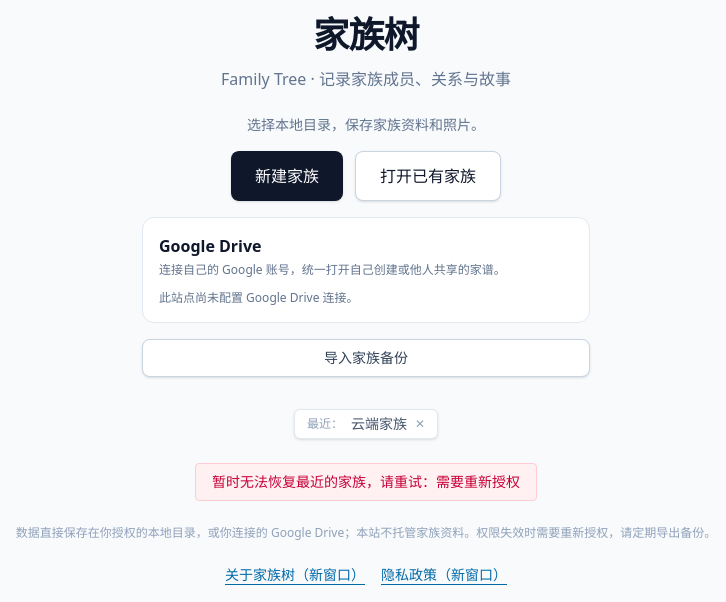
it: Welcome storage connections › lets users retry and forget a failed connection from another registered provider
Click the button "云端家族".
click(379, 424)  # box [351,414,407,434]
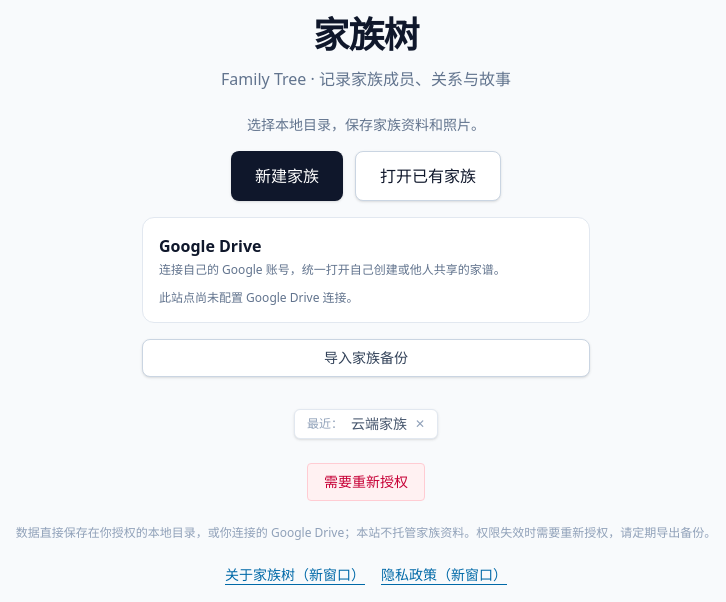
Click the button titled "清除记录".
click(420, 424)  # box [415,416,425,432]
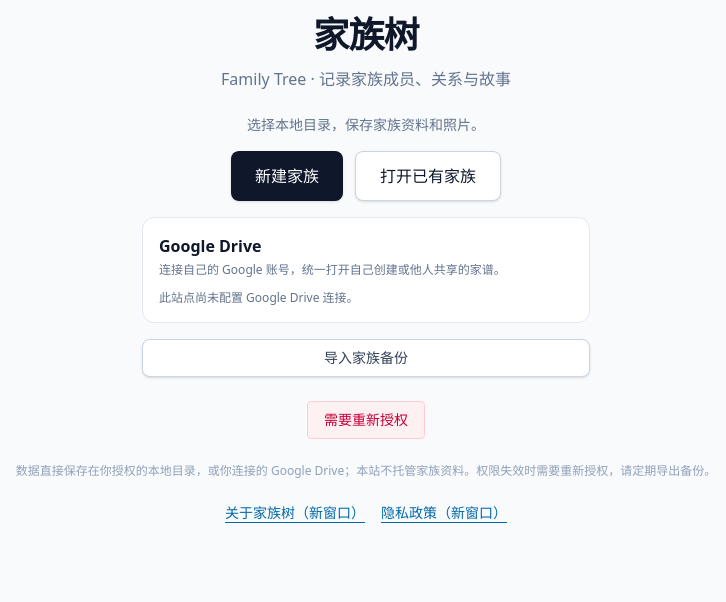
Check: the text "最近：" is gone
